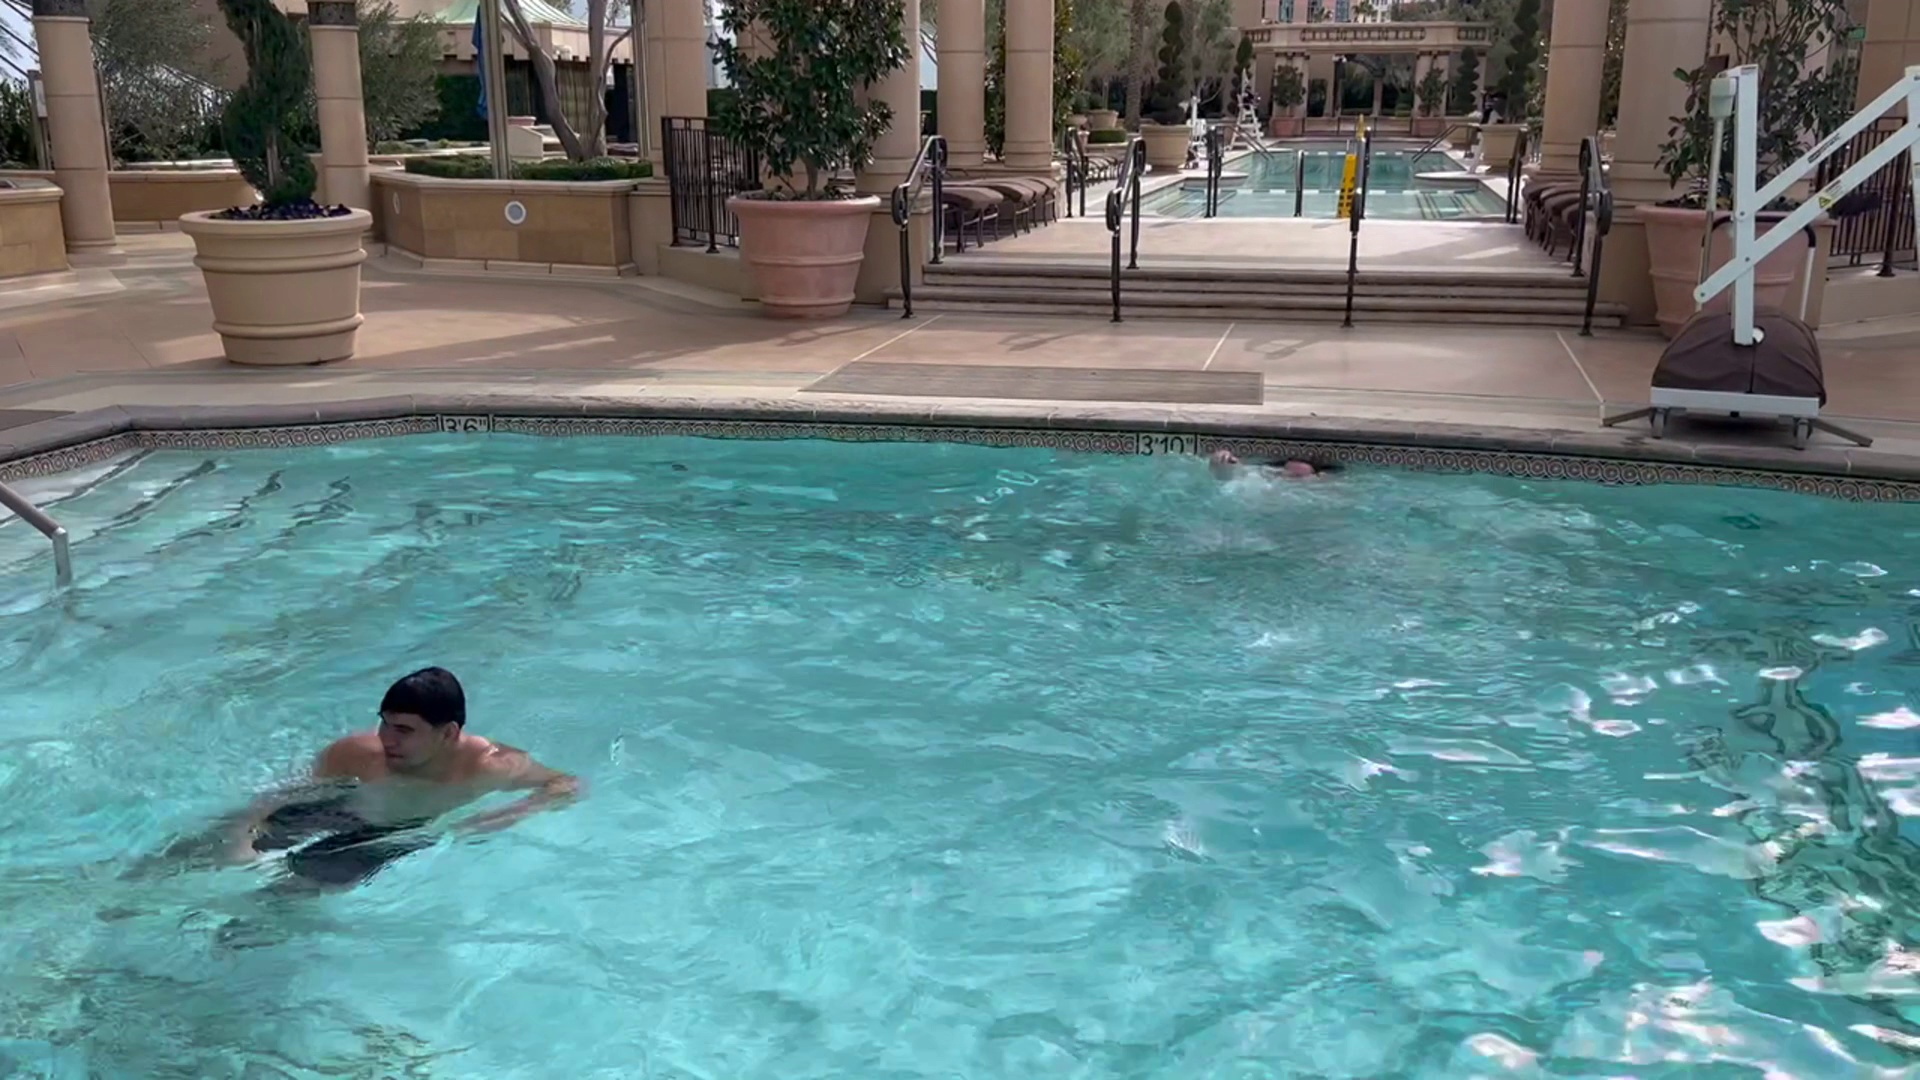danger: (1180, 417, 1385, 556)
